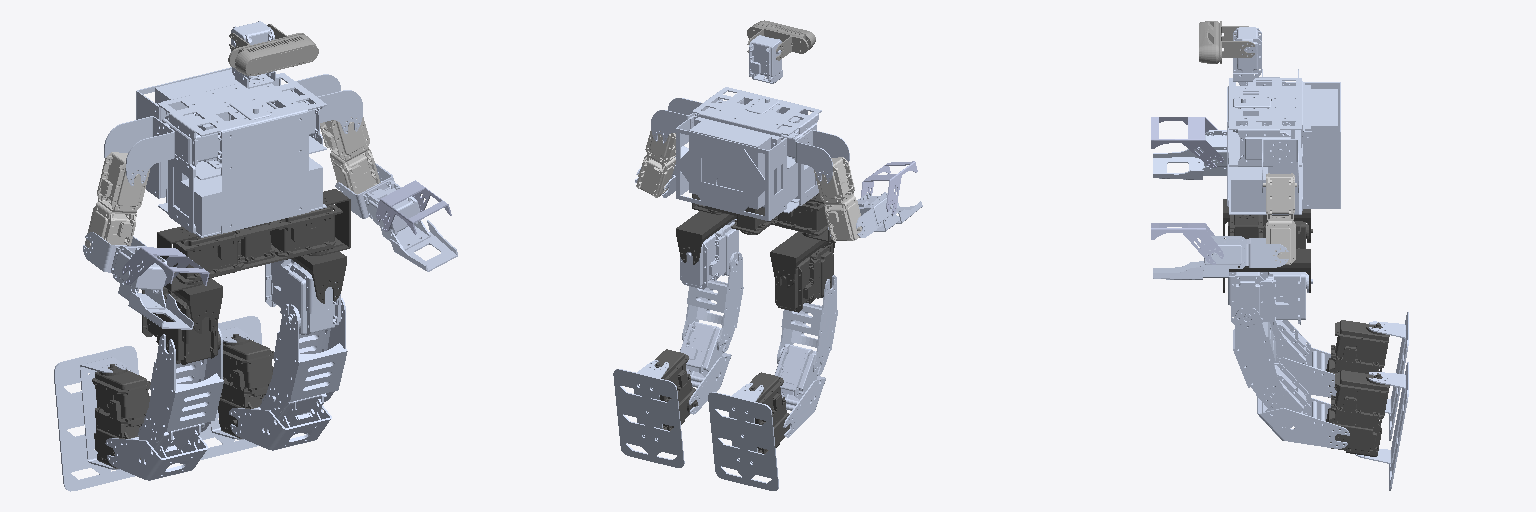
The robot description file, URDF, robot "step":
<?xml version='1.0' encoding='utf-8'?>
<robot name="step">
  <link name="base_link">
    <inertial>
      <origin xyz="5.3585E-05 -0.029542 -0.030884" rpy="0 0 0" />
      <mass value="0.51277" />
      <inertia ixx="0.00017653" ixy="-3.3055E-08" ixz="4.2219E-09" iyy="0.00027767" iyz="-1.9404E-06" izz="0.00028031" />
    </inertial>
    <visual>
      <origin xyz="0 0 0" rpy="0 0 0" />
      <geometry>
        <mesh filename="package://step/meshes/base_link.STL" />
      </geometry>
      <material name="base_link_material">
        <color rgba="0.41176 0.41176 0.41176 1" />
      </material>
    </visual>
    <collision>
      <origin xyz="0 0 0" rpy="0 0 0" />
      <geometry>
        <mesh filename="package://step/meshes/base_link.STL" />
      </geometry>
    </collision>
  </link>
  <link name="R_Leg_hip">
    <inertial>
      <origin xyz="-0.021068 0.0036566 -0.0012693" rpy="0 0 0" />
      <mass value="0.08121" />
      <inertia ixx="2.5555E-05" ixy="1.2683E-09" ixz="-2.4505E-07" iyy="0.00010724" iyz="-8.3528E-08" izz="0.00010685" />
    </inertial>
    <visual>
      <origin xyz="0 0 0" rpy="0 0 0" />
      <geometry>
        <mesh filename="package://step/meshes/R_Leg_hip.STL" />
      </geometry>
      <material name="R_Leg_hip_material">
        <color rgba="0.37647 0.37647 0.37647 1" />
      </material>
    </visual>
    <collision>
      <origin xyz="0 0 0" rpy="0 0 0" />
      <geometry>
        <mesh filename="package://step/meshes/R_Leg_hip.STL" />
      </geometry>
    </collision>
  </link>
  <joint name="R_Leg_hip_yaw" type="revolute">
    <origin xyz="-0.071027 -0.036348 -0.0616" rpy="3.1416 0 -1.5708" />
    <parent link="base_link" />
    <child link="R_Leg_hip" />
    <axis xyz="0 0 1" />
    <limit lower="-3.14159265358979" upper="3.14159265358979" effort="8.4" velocity="4.71238898038469" />
  </joint>
  <link name="R_Leg_hip_double">
    <inertial>
      <origin xyz="-0.00021138 -0.017648 -0.054917" rpy="0 0 0" />
      <mass value="0.3419" />
      <inertia ixx="0.00014057" ixy="-1.9434E-06" ixz="8.4441E-09" iyy="8.584E-05" iyz="-1.9236E-06" izz="0.00014139" />
    </inertial>
    <visual>
      <origin xyz="0 0 0" rpy="0 0 0" />
      <geometry>
        <mesh filename="package://step/meshes/R_Leg_hip_double.STL" />
      </geometry>
      <material name="R_Leg_hip_double_material">
        <color rgba="0.41176 0.41176 0.41176 1" />
      </material>
    </visual>
    <collision>
      <origin xyz="0 0 0" rpy="0 0 0" />
      <geometry>
        <mesh filename="package://step/meshes/R_Leg_hip_double.STL" />
      </geometry>
    </collision>
  </link>
  <joint name="R_Leg_hip_roll" type="revolute">
    <origin xyz="-0.07904 0.0005 0.030391" rpy="-1.5708 0 1.5708" />
    <parent link="R_Leg_hip" />
    <child link="R_Leg_hip_double" />
    <axis xyz="0 0 1" />
    <limit lower="-3.14159265358979" upper="3.14159265358979" effort="8.4" velocity="4.71238898038469" />
  </joint>
  <link name="R_Leg_thighs">
    <inertial>
      <origin xyz="-0.0049683 0.056943 -0.0308" rpy="0 0 0" />
      <mass value="0.11367" />
      <inertia ixx="7.9115E-05" ixy="1.5943E-05" ixz="-9.7906E-12" iyy="3.2575E-05" iyz="9.209E-12" izz="6.7261E-05" />
    </inertial>
    <visual>
      <origin xyz="0 0 0" rpy="0 0 0" />
      <geometry>
        <mesh filename="package://step/meshes/R_Leg_thighs.STL" />
      </geometry>
      <material name="R_Leg_thighs_material">
        <color rgba="0.86667 0.9098 1 1" />
      </material>
    </visual>
    <collision>
      <origin xyz="0 0 0" rpy="0 0 0" />
      <geometry>
        <mesh filename="package://step/meshes/R_Leg_thighs.STL" />
      </geometry>
    </collision>
  </link>
  <joint name="R_Leg_hip_pitch" type="revolute">
    <origin xyz="-0.0308 -0.03589 -0.07773" rpy="3.1416 1.5708 0" />
    <parent link="R_Leg_hip_double" />
    <child link="R_Leg_thighs" />
    <axis xyz="0 0 1" />
    <limit lower="-3.14159265358979" upper="3.14159265358979" effort="8.4" velocity="4.71238898038469" />
  </joint>
  <link name="R_Leg_calf">
    <inertial>
      <origin xyz="-0.0022018 -0.024491 -0.030452" rpy="0 0 0" />
      <mass value="0.20962" />
      <inertia ixx="0.00013089" ixy="1.5628E-05" ixz="3.6767E-09" iyy="8.7901E-05" iyz="-1.9399E-06" izz="0.0001033" />
    </inertial>
    <visual>
      <origin xyz="0 0 0" rpy="0 0 0" />
      <geometry>
        <mesh filename="package://step/meshes/R_Leg_calf.STL" />
      </geometry>
      <material name="R_Leg_calf_material">
        <color rgba="0.86667 0.9098 1 1" />
      </material>
    </visual>
    <collision>
      <origin xyz="0 0 0" rpy="0 0 0" />
      <geometry>
        <mesh filename="package://step/meshes/R_Leg_calf.STL" />
      </geometry>
    </collision>
  </link>
  <joint name="R_Leg_knee" type="revolute">
    <origin xyz="-0.031029 0.10025 0" rpy="0 0 -2.4441" />
    <parent link="R_Leg_thighs" />
    <child link="R_Leg_calf" />
    <axis xyz="0 0 1" />
    <limit lower="-3.14159265358979" upper="3.14159265358979" effort="8.4" velocity="4.71238898038469" />
  </joint>
  <link name="R_Leg_ankle">
    <inertial>
      <origin xyz="0.022816 -0.018242 -0.030585" rpy="0 0 0" />
      <mass value="0.3419" />
      <inertia ixx="0.00014139" ixy="1.9176E-06" ixz="8.4441E-09" iyy="8.584E-05" iyz="-1.9374E-06" izz="0.00014057" />
    </inertial>
    <visual>
      <origin xyz="0 0 0" rpy="0 0 0" />
      <geometry>
        <mesh filename="package://step/meshes/R_Leg_ankle.STL" />
      </geometry>
      <material name="R_Leg_ankle_material">
        <color rgba="0.41176 0.41176 0.41176 1" />
      </material>
    </visual>
    <collision>
      <origin xyz="0 0 0" rpy="0 0 0" />
      <geometry>
        <mesh filename="package://step/meshes/R_Leg_ankle.STL" />
      </geometry>
    </collision>
  </link>
  <joint name="R_Leg_ankle_pitch" type="revolute">
    <origin xyz="0.022584 -0.093739 0" rpy="0 0 0.70796" />
    <parent link="R_Leg_calf" />
    <child link="R_Leg_ankle" />
    <axis xyz="0 0 1" />
    <limit lower="-3.14159265358979" upper="3.14159265358979" effort="8.4" velocity="4.71238898038469" />
  </joint>
  <link name="R_Leg_foot">
    <inertial>
      <origin xyz="-0.00016999 0.032607 -0.060803" rpy="0 0 0" />
      <mass value="0.084269" />
      <inertia ixx="0.00013026" ixy="-1.3786E-09" ixz="6.7419E-08" iyy="0.00017596" iyz="-5.6845E-10" izz="5.2192E-05" />
    </inertial>
    <visual>
      <origin xyz="0 0 0" rpy="0 0 0" />
      <geometry>
        <mesh filename="package://step/meshes/R_Leg_foot.STL" />
      </geometry>
      <material name="R_Leg_foot_material">
        <color rgba="0.86667 0.9098 1 1" />
      </material>
    </visual>
    <collision>
      <origin xyz="0 0 0" rpy="0 0 0" />
      <geometry>
        <mesh filename="package://step/meshes/R_Leg_foot.STL" />
      </geometry>
    </collision>
  </link>
  <joint name="R_Leg_ankle_roll" type="revolute">
    <origin xyz="0.07773 -0.03589 -0.0308" rpy="0 -1.5708 3.1416" />
    <parent link="R_Leg_ankle" />
    <child link="R_Leg_foot" />
    <axis xyz="0 0 1" />
    <limit lower="-3.14159265358979" upper="3.14159265358979" effort="8.4" velocity="4.71238898038469" />
  </joint>
  <link name="L_Leg_hip">
    <inertial>
      <origin xyz="0.021068 0.0035588 -0.001272" rpy="0 0 0" />
      <mass value="0.08121" />
      <inertia ixx="2.5555E-05" ixy="1.2683E-09" ixz="2.4505E-07" iyy="0.00010724" iyz="8.3528E-08" izz="0.00010685" />
    </inertial>
    <visual>
      <origin xyz="0 0 0" rpy="0 0 0" />
      <geometry>
        <mesh filename="package://step/meshes/L_Leg_hip.STL" />
      </geometry>
      <material name="L_Leg_hip_material">
        <color rgba="0.37647 0.37647 0.37647 1" />
      </material>
    </visual>
    <collision>
      <origin xyz="0 0 0" rpy="0 0 0" />
      <geometry>
        <mesh filename="package://step/meshes/L_Leg_hip.STL" />
      </geometry>
    </collision>
  </link>
  <joint name="L_Leg_hip_yaw" type="revolute">
    <origin xyz="0.071173 -0.036348 -0.0616" rpy="-3.1416 0 1.5708" />
    <parent link="base_link" />
    <child link="L_Leg_hip" />
    <axis xyz="0 0 1" />
    <limit lower="-3.14159265358979" upper="3.14159265358979" effort="8.4" velocity="4.71238898038469" />
  </joint>
  <link name="L_Leg_hip_double">
    <inertial>
      <origin xyz="0.00021474 -0.017648 -0.054914" rpy="0 0 0" />
      <mass value="0.3419" />
      <inertia ixx="0.00014057" ixy="1.9374E-06" ixz="8.4441E-09" iyy="8.584E-05" iyz="-1.9176E-06" izz="0.00014139" />
    </inertial>
    <visual>
      <origin xyz="0 0 0" rpy="0 0 0" />
      <geometry>
        <mesh filename="package://step/meshes/L_Leg_hip_double.STL" />
      </geometry>
      <material name="L_Leg_hip_double_material">
        <color rgba="0.86667 0.9098 1 1" />
      </material>
    </visual>
    <collision>
      <origin xyz="0 0 0" rpy="0 0 0" />
      <geometry>
        <mesh filename="package://step/meshes/L_Leg_hip_double.STL" />
      </geometry>
    </collision>
  </link>
  <joint name="L_Leg_hip_roll" type="revolute">
    <origin xyz="0.0790399999998856 -0.000500004039074131 0.0303914536643952" rpy="-1.57079632680575 0 -1.57079632676978" />
    <parent link="L_Leg_hip" />
    <child link="L_Leg_hip_double" />
    <axis xyz="0 0 1" />
    <limit lower="-3.14159265358979" upper="3.14159265358979" effort="8.4" velocity="4.71238898038469" />
  </joint>
  <link name="L_Leg_thighs">
    <inertial>
      <origin xyz="0.0049683 0.056943 -0.0308" rpy="0 0 0" />
      <mass value="0.11367" />
      <inertia ixx="7.9115E-05" ixy="-1.5943E-05" ixz="-9.7908E-12" iyy="3.2575E-05" iyz="-9.2094E-12" izz="6.7261E-05" />
    </inertial>
    <visual>
      <origin xyz="0 0 0" rpy="0 0 0" />
      <geometry>
        <mesh filename="package://step/meshes/L_Leg_thighs.STL" />
      </geometry>
      <material name="L_Leg_thighs_material">
        <color rgba="0.86667 0.9098 1 1" />
      </material>
    </visual>
    <collision>
      <origin xyz="0 0 0" rpy="0 0 0" />
      <geometry>
        <mesh filename="package://step/meshes/L_Leg_thighs.STL" />
      </geometry>
    </collision>
  </link>
  <joint name="L_Leg_hip_pitch" type="revolute">
    <origin xyz="0.0308 -0.03589 -0.07773" rpy="0 -1.5708 -3.1416" />
    <parent link="L_Leg_hip_double" />
    <child link="L_Leg_thighs" />
    <axis xyz="0 0 1" />
    <limit lower="-3.14159265358979" upper="3.14159265358979" effort="8.4" velocity="4.71238898038469" />
  </joint>
  <link name="L_Leg_calf">
    <inertial>
      <origin xyz="0.0022071 -0.024492 -0.030453" rpy="0 0 0" />
      <mass value="0.20962" />
      <inertia ixx="0.00013089" ixy="-1.5634E-05" ixz="3.6767E-09" iyy="8.7901E-05" iyz="-1.9409E-06" izz="0.0001033" />
    </inertial>
    <visual>
      <origin xyz="0 0 0" rpy="0 0 0" />
      <geometry>
        <mesh filename="package://step/meshes/L_Leg_calf.STL" />
      </geometry>
      <material name="L_Leg_calf_material">
        <color rgba="0.86667 0.9098 1 1" />
      </material>
    </visual>
    <collision>
      <origin xyz="0 0 0" rpy="0 0 0" />
      <geometry>
        <mesh filename="package://step/meshes/L_Leg_calf.STL" />
      </geometry>
    </collision>
  </link>
  <joint name="L_Leg_knee" type="revolute">
    <origin xyz="0.031029 0.10025 0" rpy="0 0 2.4435" />
    <parent link="L_Leg_thighs" />
    <child link="L_Leg_calf" />
    <axis xyz="0 0 1" />
    <limit lower="-3.14159265358979" upper="3.14159265358979" effort="8.4" velocity="4.71238898038469" />
  </joint>
  <link name="L_Leg_ankle">
    <inertial>
      <origin xyz="-0.022813 -0.018242 -0.030589" rpy="0 0 0" />
      <mass value="0.3419" />
      <inertia ixx="0.00014139" ixy="-1.9236E-06" ixz="8.4441E-09" iyy="8.584E-05" iyz="-1.9434E-06" izz="0.00014057" />
    </inertial>
    <visual>
      <origin xyz="0 0 0" rpy="0 0 0" />
      <geometry>
        <mesh filename="package://step/meshes/L_Leg_ankle.STL" />
      </geometry>
      <material name="L_Leg_ankle_material">
        <color rgba="0.41176 0.41176 0.41176 1" />
      </material>
    </visual>
    <collision>
      <origin xyz="0 0 0" rpy="0 0 0" />
      <geometry>
        <mesh filename="package://step/meshes/L_Leg_ankle.STL" />
      </geometry>
    </collision>
  </link>
  <joint name="L_Leg_ankle_pitch" type="revolute">
    <origin xyz="-0.022585 -0.093743 0" rpy="0 0 -0.70796" />
    <parent link="L_Leg_calf" />
    <child link="L_Leg_ankle" />
    <axis xyz="0 0 1" />
    <limit lower="-3.14159265358979" upper="3.14159265358979" effort="8.4" velocity="4.71238898038469" />
  </joint>
  <link name="L_Leg_foot">
    <inertial>
      <origin xyz="-0.00018856 0.032607 -0.060803" rpy="0 0 0" />
      <mass value="0.084269" />
      <inertia ixx="0.00013026" ixy="-1.3786E-09" ixz="-6.2696E-08" iyy="0.00017596" iyz="-5.6808E-10" izz="5.2192E-05" />
    </inertial>
    <visual>
      <origin xyz="0 0 0" rpy="0 0 0" />
      <geometry>
        <mesh filename="package://step/meshes/L_Leg_foot.STL" />
      </geometry>
      <material name="L_Leg_foot_material">
        <color rgba="0.86667 0.9098 1 1" />
      </material>
    </visual>
    <collision>
      <origin xyz="0 0 0" rpy="0 0 0" />
      <geometry>
        <mesh filename="package://step/meshes/L_Leg_foot.STL" />
      </geometry>
    </collision>
  </link>
  <joint name="L_Leg_ankle_roll" type="revolute">
    <origin xyz="-0.07773 -0.03589 -0.0308" rpy="3.1416 1.5708 0" />
    <parent link="L_Leg_ankle" />
    <child link="L_Leg_foot" />
    <axis xyz="0 0 1" />
    <limit lower="-3.14159265358979" upper="3.14159265358979" effort="8.4" velocity="4.71238898038469" />
  </joint>
  <link name="Upper_Body">
    <inertial>
      <origin xyz="-0.00039083 -0.0050187 0.049301" rpy="0 0 0" />
      <mass value="1.6853" />
      <inertia ixx="0.00091772" ixy="-5.0148E-06" ixz="-3.6232E-09" iyy="0.0025848" iyz="-3.1124E-07" izz="0.0024262" />
    </inertial>
    <visual>
      <origin xyz="0 0 0" rpy="0 0 0" />
      <geometry>
        <mesh filename="package://step/meshes/Upper_Body.STL" />
      </geometry>
      <material name="Upper_Body_material">
        <color rgba="0.86667 0.9098 1 1" />
      </material>
    </visual>
    <collision>
      <origin xyz="0 0 0" rpy="0 0 0" />
      <geometry>
        <mesh filename="package://step/meshes/Upper_Body.STL" />
      </geometry>
    </collision>
  </link>
  <joint name="Waist" type="fixed">
    <origin xyz="0 0 0" rpy="0 0 0" />
    <parent link="base_link" />
    <child link="Upper_Body" />
  </joint>
  <link name="R_Arm_shoulder">
    <inertial>
      <origin xyz="-0.0032353 -2.7733E-12 0.019229" rpy="0 0 0" />
      <mass value="0.019087" />
      <inertia ixx="1.3968E-05" ixy="-3.0057E-17" ixz="1.2918E-06" iyy="8.6346E-06" iyz="-2.1011E-18" izz="9.6296E-06" />
    </inertial>
    <visual>
      <origin xyz="0 0 0" rpy="0 0 0" />
      <geometry>
        <mesh filename="package://step/meshes/R_Arm_shoulder.STL" />
      </geometry>
      <material name="R_Arm_shoulder_material">
        <color rgba="0.86667 0.9098 1 1" />
      </material>
    </visual>
    <collision>
      <origin xyz="0 0 0" rpy="0 0 0" />
      <geometry>
        <mesh filename="package://step/meshes/R_Arm_shoulder.STL" />
      </geometry>
    </collision>
  </link>
  <joint name="R_Arm_shoulder_yaw" type="fixed">
    <origin xyz="-0.083498 0.0039294 0.085072" rpy="0 -1.5708 0" />
    <parent link="Upper_Body" />
    <child link="R_Arm_shoulder" />
  </joint>
  <link name="R_Arm_upper">
    <inertial>
      <origin xyz="1.5063E-05 -0.040916 -0.022615" rpy="0 0 0" />
      <mass value="0.16253" />
      <inertia ixx="4.0987E-05" ixy="-3.2529E-07" ixz="1.4746E-12" iyy="2.8371E-05" iyz="-3.2529E-07" izz="4.0987E-05" />
    </inertial>
    <visual>
      <origin xyz="0 0 0" rpy="0 0 0" />
      <geometry>
        <mesh filename="package://step/meshes/R_Arm_upper.STL" />
      </geometry>
      <material name="R_Arm_upper_material">
        <color rgba="0.85098 0.85098 0.85098 1" />
      </material>
    </visual>
    <collision>
      <origin xyz="0 0 0" rpy="0 0 0" />
      <geometry>
        <mesh filename="package://step/meshes/R_Arm_upper.STL" />
      </geometry>
    </collision>
  </link>
  <joint name="R_Arm_pitch" type="fixed">
    <origin xyz="-0.025548 -0.022225 0.039672" rpy="-1.57081 1.3 3.141587" />
    <parent link="R_Arm_shoulder" />
    <child link="R_Arm_upper" />
  </joint>
  <link name="R_Arm_lower">
    <inertial>
      <origin xyz="-0.003208 0.068561 -0.022626" rpy="0 0 0" />
      <mass value="0.11139" />
      <inertia ixx="4.633E-05" ixy="-6.0299E-07" ixz="7.3542E-10" iyy="2.5834E-05" iyz="-3.221E-07" izz="3.4799E-05" />
    </inertial>
    <visual>
      <origin xyz="0 0 0" rpy="0 0 0" />
      <geometry>
        <mesh filename="package://step/meshes/R_Arm_lower.STL" />
      </geometry>
      <material name="R_Arm_lower_material">
        <color rgba="0.86667 0.9098 1 1" />
      </material>
    </visual>
    <collision>
      <origin xyz="0 0 0" rpy="0 0 0" />
      <geometry>
        <mesh filename="package://step/meshes/R_Arm_lower.STL" />
      </geometry>
    </collision>
  </link>
  <joint name="R_Arm_elbow" type="fixed">
    <origin xyz="-0.022975 -0.081831 -0.0226" rpy="1.570793 0.000796 -1.570804" />
    <parent link="R_Arm_upper" />
    <child link="R_Arm_lower" />
  </joint>
  <link name="R_Arm_hand">
    <inertial>
      <origin xyz="0.018631 0.038368 -0.02258" rpy="0 0 0" />
      <mass value="0.018532" />
      <inertia ixx="1.7778E-05" ixy="-1.2817E-06" ixz="-3.8282E-10" iyy="8.5162E-06" iyz="-3.2918E-09" izz="1.2239E-05" />
    </inertial>
    <visual>
      <origin xyz="0 0 0" rpy="0 0 0" />
      <geometry>
        <mesh filename="package://step/meshes/R_Arm_hand.STL" />
      </geometry>
      <material name="R_Arm_hand_material">
        <color rgba="0.79216 0.81961 0.93333 1" />
      </material>
    </visual>
    <collision>
      <origin xyz="0 0 0" rpy="0 0 0" />
      <geometry>
        <mesh filename="package://step/meshes/R_Arm_hand.STL" />
      </geometry>
    </collision>
  </link>
  <joint name="R_arm_hand" type="fixed">
    <origin xyz="0 0.078998 0" rpy="0 0 0" />
    <parent link="R_Arm_lower" />
    <child link="R_Arm_hand" />
  </joint>
  <link name="L_Arm_shoulder">
    <inertial>
      <origin xyz="0.0032353 5.0626E-12 0.019229" rpy="0 0 0" />
      <mass value="0.019087" />
      <inertia ixx="1.3968E-05" ixy="1.0013E-18" ixz="-1.2918E-06" iyy="8.6346E-06" iyz="8.6286E-20" izz="9.6296E-06" />
    </inertial>
    <visual>
      <origin xyz="0 0 0" rpy="0 0 0" />
      <geometry>
        <mesh filename="package://step/meshes/L_Arm_shoulder.STL" />
      </geometry>
      <material name="L_Arm_shoulder_material">
        <color rgba="0.86667 0.9098 1 1" />
      </material>
    </visual>
    <collision>
      <origin xyz="0 0 0" rpy="0 0 0" />
      <geometry>
        <mesh filename="package://step/meshes/L_Arm_shoulder.STL" />
      </geometry>
    </collision>
  </link>
  <joint name="L_Arm_shoulder_yaw" type="fixed">
    <origin xyz="0.083445 0.0039294 0.085072" rpy="0 1.5708 0" />
    <parent link="Upper_Body" />
    <child link="L_Arm_shoulder" />
  </joint>
  <link name="L_Arm_upper">
    <inertial>
      <origin xyz="-1.5063E-05 -0.040916 -0.022615" rpy="0 0 0" />
      <mass value="0.16253" />
      <inertia ixx="4.0987E-05" ixy="3.2528E-07" ixz="1.4746E-12" iyy="2.8371E-05" iyz="-3.2528E-07" izz="4.0987E-05" />
    </inertial>
    <visual>
      <origin xyz="0 0 0" rpy="0 0 0" />
      <geometry>
        <mesh filename="package://step/meshes/L_Arm_upper.STL" />
      </geometry>
      <material name="L_Arm_upper_material">
        <color rgba="0.85098 0.85098 0.85098 1" />
      </material>
    </visual>
    <collision>
      <origin xyz="0 0 0" rpy="0 0 0" />
      <geometry>
        <mesh filename="package://step/meshes/L_Arm_upper.STL" />
      </geometry>
    </collision>
  </link>
  <joint name="L_Arm_pitch" type="fixed">
    <origin xyz="0.025548 -0.022225 0.039672" rpy="-1.57081 -1.3 -3.141587" />
    <parent link="L_Arm_shoulder" />
    <child link="L_Arm_upper" />
  </joint>
  <link name="L_Arm_lower">
    <inertial>
      <origin xyz="0.003208 0.068561 -0.022243" rpy="0 0 0" />
      <mass value="0.11139" />
      <inertia ixx="4.633E-05" ixy="6.0299E-07" ixz="7.3542E-10" iyy="2.5834E-05" iyz="-3.2848E-07" izz="3.4799E-05" />
    </inertial>
    <visual>
      <origin xyz="0 0 0" rpy="0 0 0" />
      <geometry>
        <mesh filename="package://step/meshes/L_Arm_lower.STL" />
      </geometry>
      <material name="L_Arm_lower_material">
        <color rgba="0.86667 0.9098 1 1" />
      </material>
    </visual>
    <collision>
      <origin xyz="0 0 0" rpy="0 0 0" />
      <geometry>
        <mesh filename="package://step/meshes/L_Arm_lower.STL" />
      </geometry>
    </collision>
  </link>
  <joint name="L_Arm_elbow" type="fixed">
    <origin xyz="0.0226 -0.081831 -0.0226" rpy="1.570793 -0.000796 1.570804" />
    <parent link="L_Arm_upper" />
    <child link="L_Arm_lower" />
  </joint>
  <link name="L_Arm_hand">
    <inertial>
      <origin xyz="-0.018631 0.038368 -0.02262" rpy="0 0 0" />
      <mass value="0.018532" />
      <inertia ixx="1.7778E-05" ixy="1.2817E-06" ixz="-3.8282E-10" iyy="8.5162E-06" iyz="3.2918E-09" izz="1.2239E-05" />
    </inertial>
    <visual>
      <origin xyz="0 0 0" rpy="0 0 0" />
      <geometry>
        <mesh filename="package://step/meshes/L_Arm_hand.STL" />
      </geometry>
      <material name="L_Arm_hand_material">
        <color rgba="0.79216 0.81961 0.93333 1" />
      </material>
    </visual>
    <collision>
      <origin xyz="0 0 0" rpy="0 0 0" />
      <geometry>
        <mesh filename="package://step/meshes/L_Arm_hand.STL" />
      </geometry>
    </collision>
  </link>
  <joint name="L_Arm_hand" type="fixed">
    <origin xyz="0 0.078998 0.000375" rpy="0 0 0" />
    <parent link="L_Arm_lower" />
    <child link="L_Arm_hand" />
  </joint>
  <link name="Neck">
    <inertial>
      <origin xyz="-2.8823E-05 -0.0046672 0.028195" rpy="0 0 0" />
      <mass value="0.081827" />
      <inertia ixx="1.8731E-05" ixy="6.9662E-13" ixz="-3.2529E-07" iyy="2.2526E-05" iyz="2.0296E-08" izz="1.4391E-05" />
    </inertial>
    <visual>
      <origin xyz="0 0 0" rpy="0 0 0" />
      <geometry>
        <mesh filename="package://step/meshes/Neck.STL" />
      </geometry>
      <material name="Neck_material">
        <color rgba="0.86667 0.9098 1 1" />
      </material>
    </visual>
    <collision>
      <origin xyz="0 0 0" rpy="0 0 0" />
      <geometry>
        <mesh filename="package://step/meshes/Neck.STL" />
      </geometry>
    </collision>
  </link>
  <joint name="Neck_yaw" type="fixed">
    <origin xyz="0 -0.040141 0.14855" rpy="0 0 3.1416" />
    <parent link="Upper_Body" />
    <child link="Neck" />
  </joint>
  <link name="head">
    <inertial>
      <origin xyz="-0.041657 -2.3522E-05 -0.022351" rpy="0 0 0" />
      <mass value="0.088177" />
      <inertia ixx="4.8833E-05" ixy="-1.1583E-08" ixz="-6.3919E-07" iyy="4.9891E-05" iyz="-2.2617E-09" izz="8.3925E-06" />
    </inertial>
    <visual>
      <origin xyz="0 0 0" rpy="0 0 0" />
      <geometry>
        <mesh filename="package://step/meshes/head.STL" />
      </geometry>
      <material name="head_material">
        <color rgba="0.69804 0.69804 0.69804 1" />
      </material>
    </visual>
    <collision>
      <origin xyz="0 0 0" rpy="0 0 0" />
      <geometry>
        <mesh filename="package://step/meshes/head.STL" />
      </geometry>
    </collision>
  </link>
  <joint name="Neck_pitch" type="fixed">
    <origin xyz="-0.022899 -0.0049021 0.041461" rpy="1.5708 0 -1.5708" />
    <parent link="Neck" />
    <child link="head" />
  </joint>
</robot>

--- What the picture shows (computed from the rendered views, not written in the file) ---
3 views of the same robot in one strip: view 1: azimuth 30°, elevation 25°; view 2: azimuth 150°, elevation 25°; view 3: azimuth 270°, elevation 25° (orthographic).
Model step with 24 links and 23 joints (12 revolute, 11 fixed), rooted at base_link, posed every joint at zero.
Visible links, largest first — view 1: Upper_Body, base_link, R_Leg_foot, L_Leg_thighs, R_Leg_thighs, R_Arm_lower, L_Arm_lower, R_Leg_calf, L_Leg_calf, R_Leg_ankle, L_Leg_ankle, L_Leg_hip_double (+12 smaller); view 2: Upper_Body, R_Leg_foot, L_Leg_foot, R_Leg_calf, L_Leg_calf, L_Leg_thighs, R_Leg_thighs, R_Arm_upper, R_Leg_hip_double, L_Leg_hip_double, base_link, L_Arm_upper (+10 smaller); view 3: Upper_Body, L_Leg_ankle, L_Leg_calf, L_Leg_hip_double, L_Leg_thighs, L_Arm_lower, R_Leg_ankle, R_Leg_calf, L_Arm_upper, R_Arm_lower, head, R_Arm_hand (+6 smaller).
Link boxes in pixels (bbox=[...]): Upper_Body: bbox=[136, 67, 326, 237]; base_link: bbox=[173, 204, 342, 284]; R_Leg_foot: bbox=[54, 346, 138, 491]; L_Leg_thighs: bbox=[267, 298, 347, 412]; R_Leg_thighs: bbox=[144, 328, 223, 442]; R_Arm_lower: bbox=[83, 232, 193, 329]; L_Arm_lower: bbox=[335, 163, 457, 271]; R_Leg_calf: bbox=[105, 423, 207, 480]; L_Leg_calf: bbox=[229, 393, 331, 450]; R_Leg_ankle: bbox=[92, 364, 150, 468]; L_Leg_ankle: bbox=[218, 334, 273, 438]; L_Leg_hip_double: bbox=[265, 259, 340, 334]; Upper_Body: bbox=[676, 87, 821, 220]; R_Leg_foot: bbox=[708, 383, 778, 490]; L_Leg_foot: bbox=[613, 360, 684, 467]; R_Leg_calf: bbox=[775, 344, 825, 437]; L_Leg_calf: bbox=[680, 321, 731, 414]; L_Leg_thighs: bbox=[682, 252, 743, 352]; R_Leg_thighs: bbox=[777, 275, 837, 375]; R_Arm_upper: bbox=[814, 157, 861, 241]; R_Leg_hip_double: bbox=[775, 242, 833, 312]; L_Leg_hip_double: bbox=[680, 219, 739, 289]; base_link: bbox=[697, 195, 827, 236]; L_Arm_upper: bbox=[636, 131, 675, 197]; Upper_Body: bbox=[1227, 77, 1340, 214]; L_Leg_ankle: bbox=[1326, 370, 1389, 456]; L_Leg_calf: bbox=[1256, 363, 1349, 448]; L_Leg_hip_double: bbox=[1228, 272, 1312, 326]; L_Leg_thighs: bbox=[1233, 308, 1285, 405]; L_Arm_lower: bbox=[1153, 236, 1288, 279]; R_Leg_ankle: bbox=[1326, 320, 1389, 397]; R_Leg_calf: bbox=[1274, 320, 1336, 397]; L_Arm_upper: bbox=[1263, 173, 1296, 264]; R_Arm_lower: bbox=[1153, 130, 1228, 179]; head: bbox=[1199, 21, 1254, 63]; R_Arm_hand: bbox=[1151, 117, 1223, 167].
Bounding box of the posed robot: 0.349 × 0.3087 × 0.5532 m (x, y, z).
Meshes: 24 distinct files referenced, 24 mesh visuals loaded (24 binary STL).
